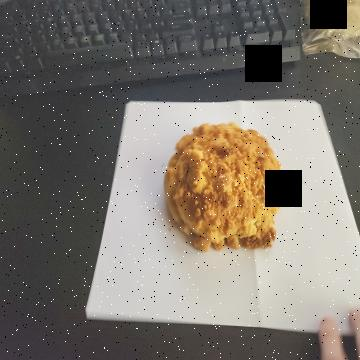soboru_bread: (163, 123, 281, 252)
